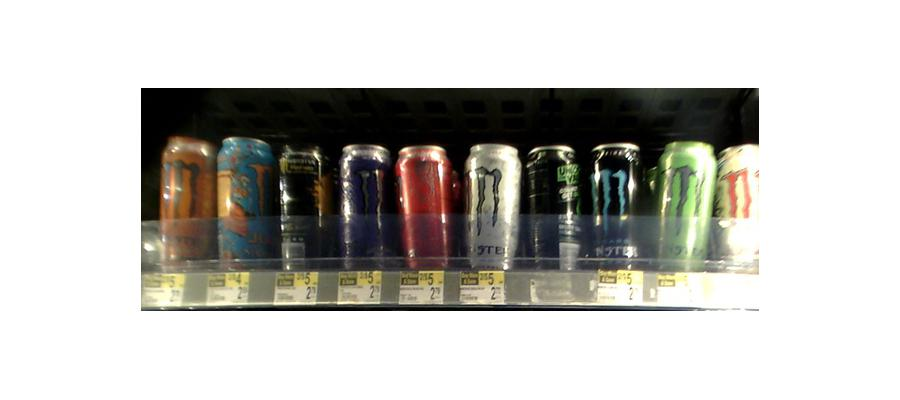bottle: (652, 140, 714, 273), (395, 142, 458, 268), (157, 134, 214, 270), (218, 137, 275, 270), (333, 141, 391, 271), (524, 149, 585, 271), (588, 143, 647, 269), (460, 144, 519, 269), (716, 136, 764, 266), (282, 144, 331, 269)
